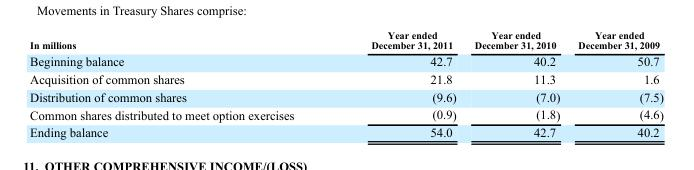table: (29, 29, 662, 138)
table column: (29, 29, 332, 138), (332, 29, 464, 138), (464, 29, 568, 138), (568, 29, 662, 138)
table column header: (29, 29, 662, 52)
table row: (29, 29, 662, 52), (29, 52, 662, 70), (29, 87, 662, 105), (29, 105, 662, 123), (29, 70, 662, 87), (29, 123, 662, 138)
